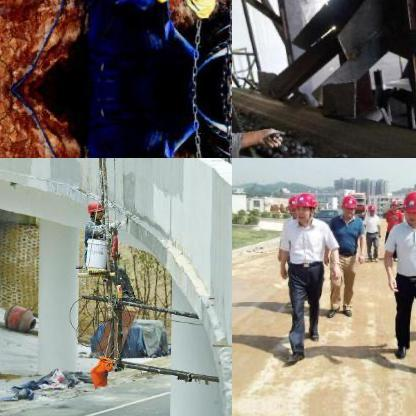Helmet: (294, 191, 316, 219), (338, 189, 358, 219), (399, 189, 415, 224), (85, 198, 103, 221), (287, 194, 299, 222), (366, 202, 376, 216), (388, 197, 398, 211)
